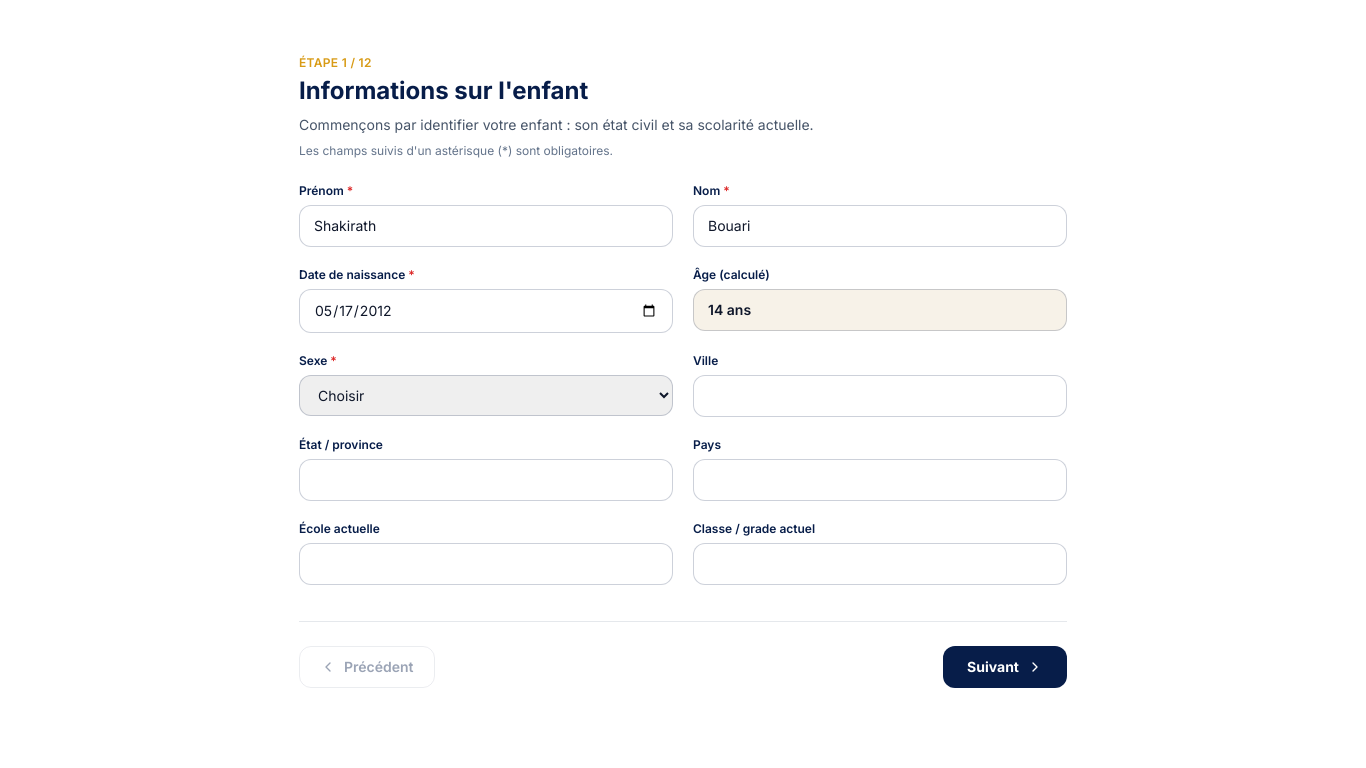
Test: Fiche FHA - sexe de l'enfant › bloque le passage à l'étape 2 tant que le sexe n'est pas choisi
(page scrolled)
Click the button "Suivant" at (1005, 667), box top-left (943, 646), bottom-right (1067, 688)
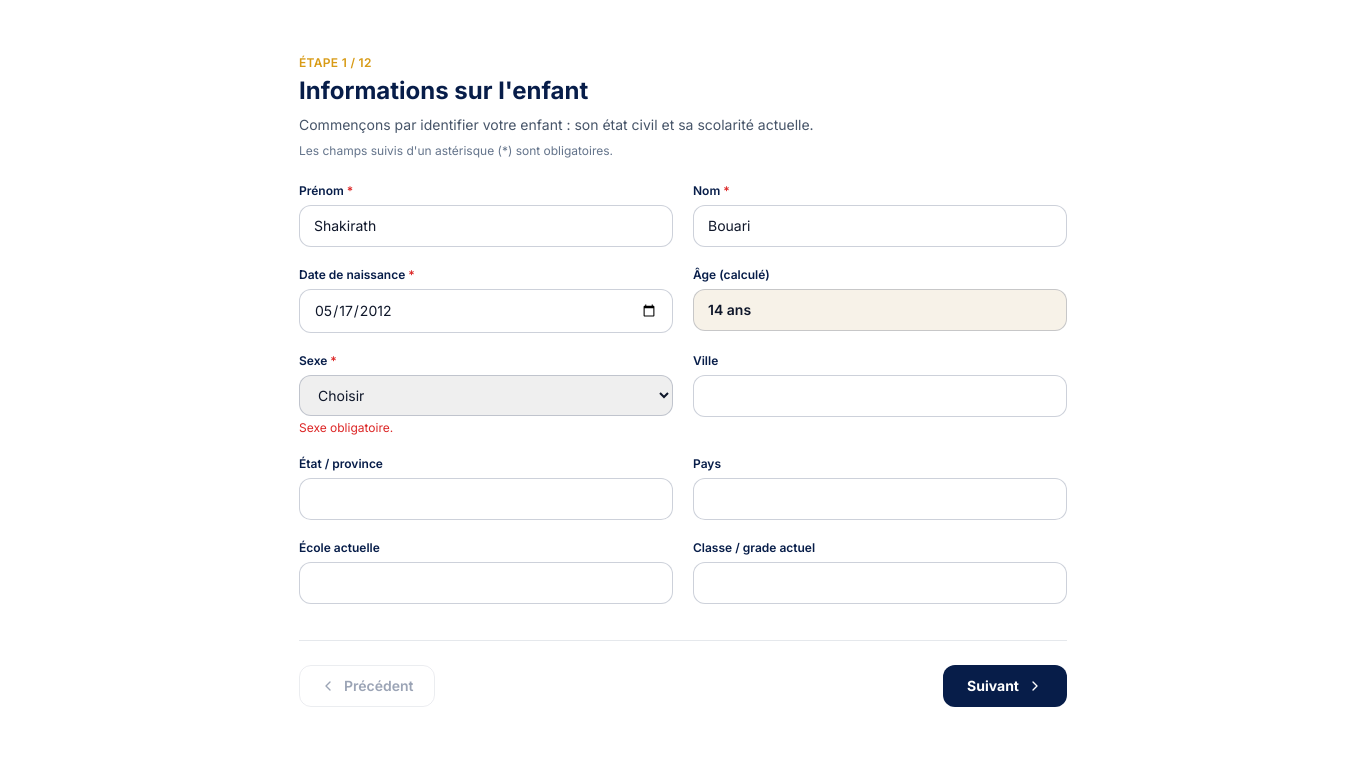
Expected: the text "Sexe obligatoire." is shown, top-left (299, 420), bottom-right (393, 435)
Select "Masculin" in the dropdown with test id "child-gender" at (486, 396), box top-left (299, 375), bottom-right (673, 416)
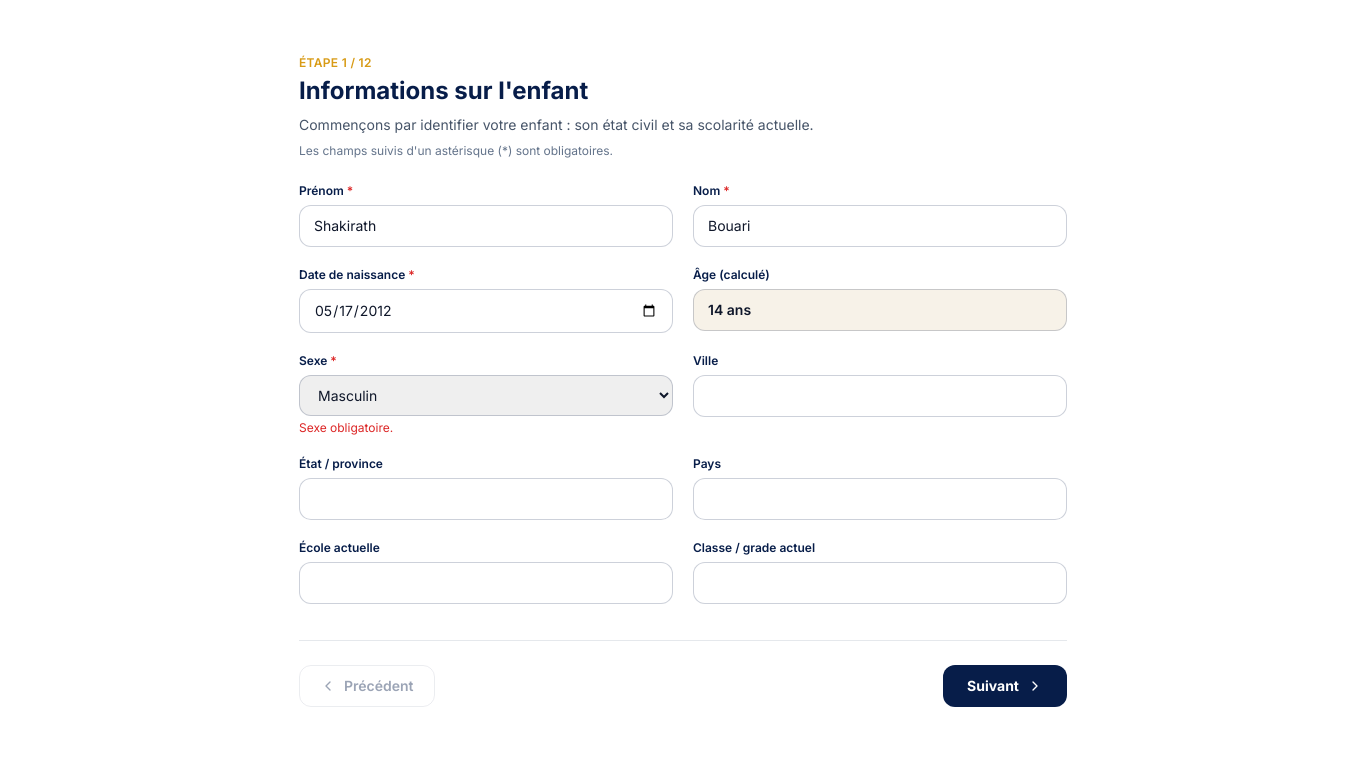
Click the button "Suivant" at (1005, 686), box top-left (943, 665), bottom-right (1067, 707)
(page scrolled)
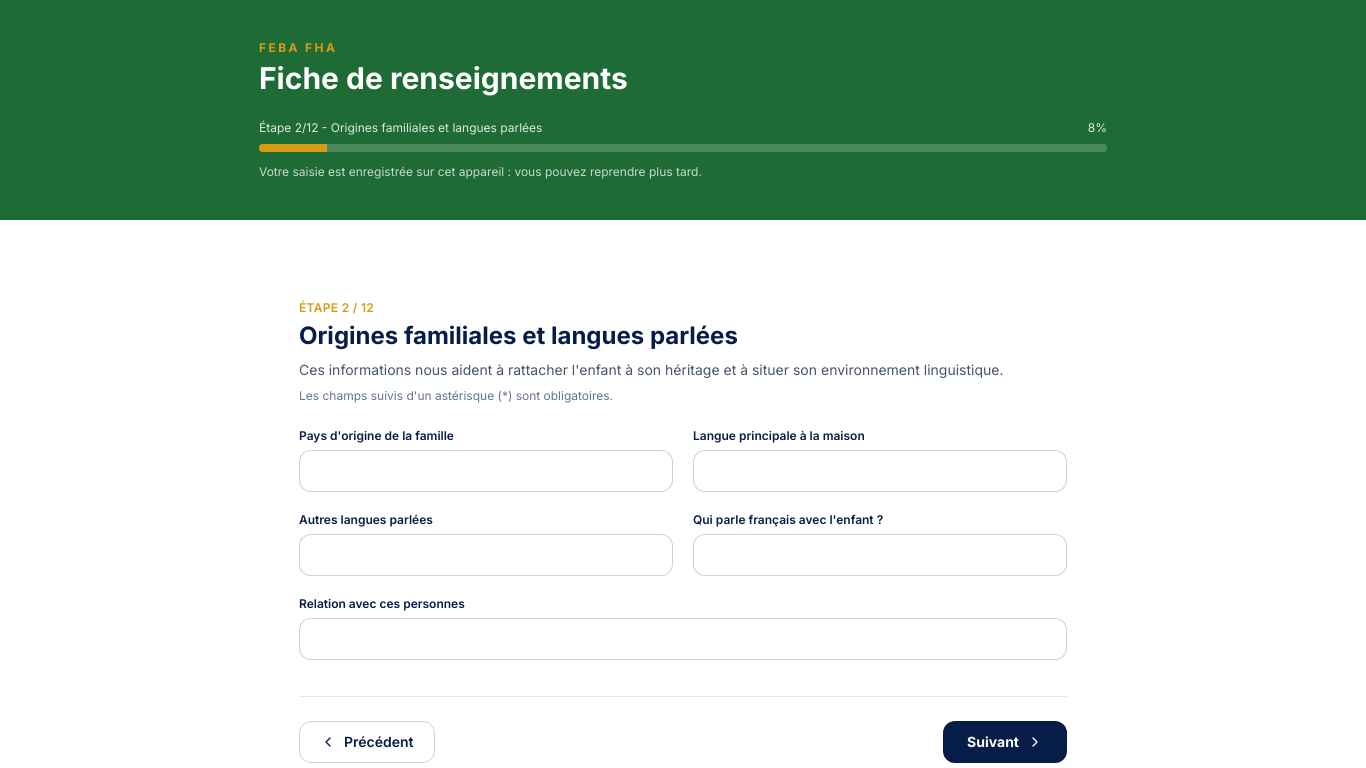
Expected: the text "Étape 2/12 - Origines familiales et langues parlées" is shown, top-left (259, 120), bottom-right (542, 136)
